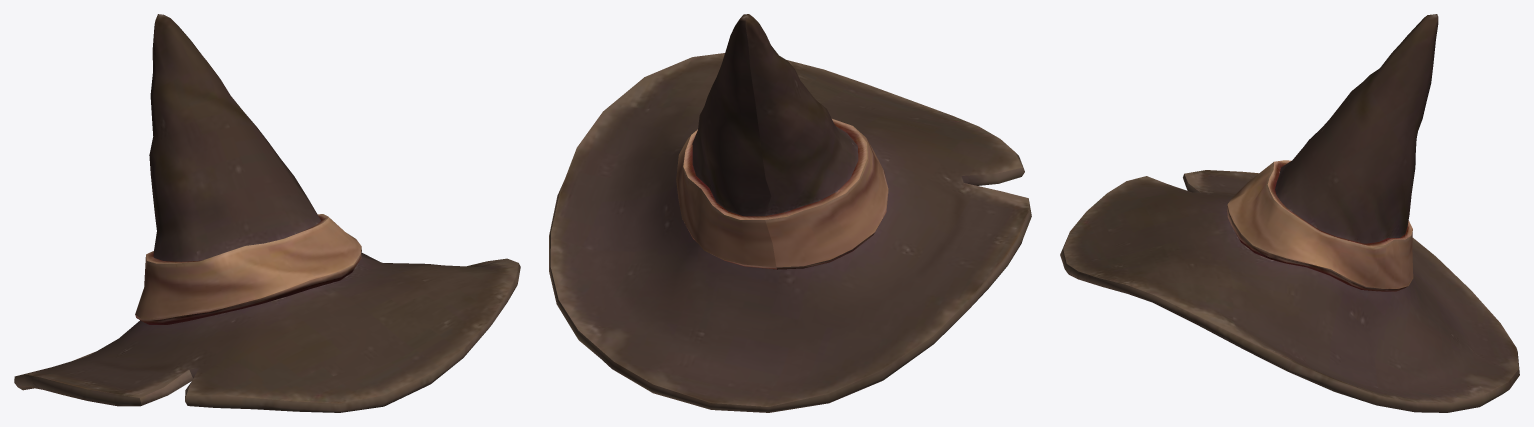
The model's file is outfit_wizard_hat.glb.
3 renders of one model, left to right at view 1: azimuth 30°, elevation 25°; view 2: azimuth 150°, elevation 25°; view 3: azimuth 270°, elevation 25°, orthographic. The views are drawn at different scales.
Parts seen in each view (by area): view 1: outfit_wizard_hat; view 2: outfit_wizard_hat; view 3: outfit_wizard_hat.
Part boxes in pixels (left/top/right/bottom): outfit_wizard_hat: left=14, top=14, right=520, bottom=412; outfit_wizard_hat: left=549, top=14, right=1031, bottom=412; outfit_wizard_hat: left=1060, top=14, right=1519, bottom=412.
Size of the model in its own units: 0.3703 by 0.3 by 0.361.
1 material, 1 textured.
